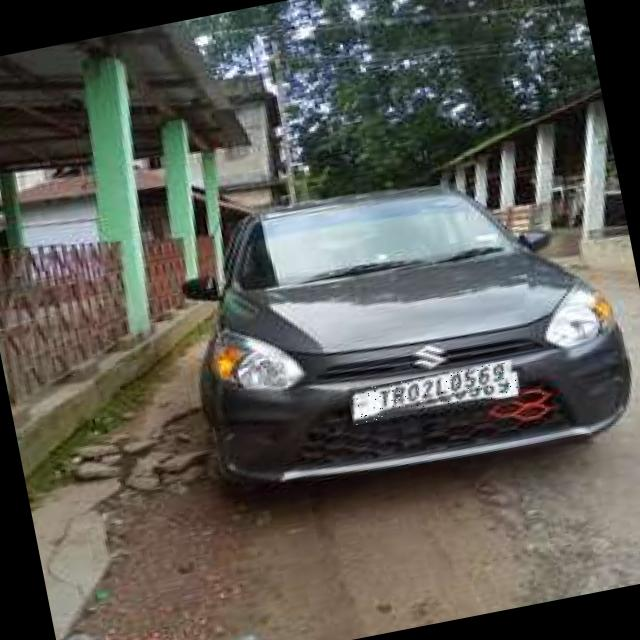Plate: (348, 361, 520, 427)
